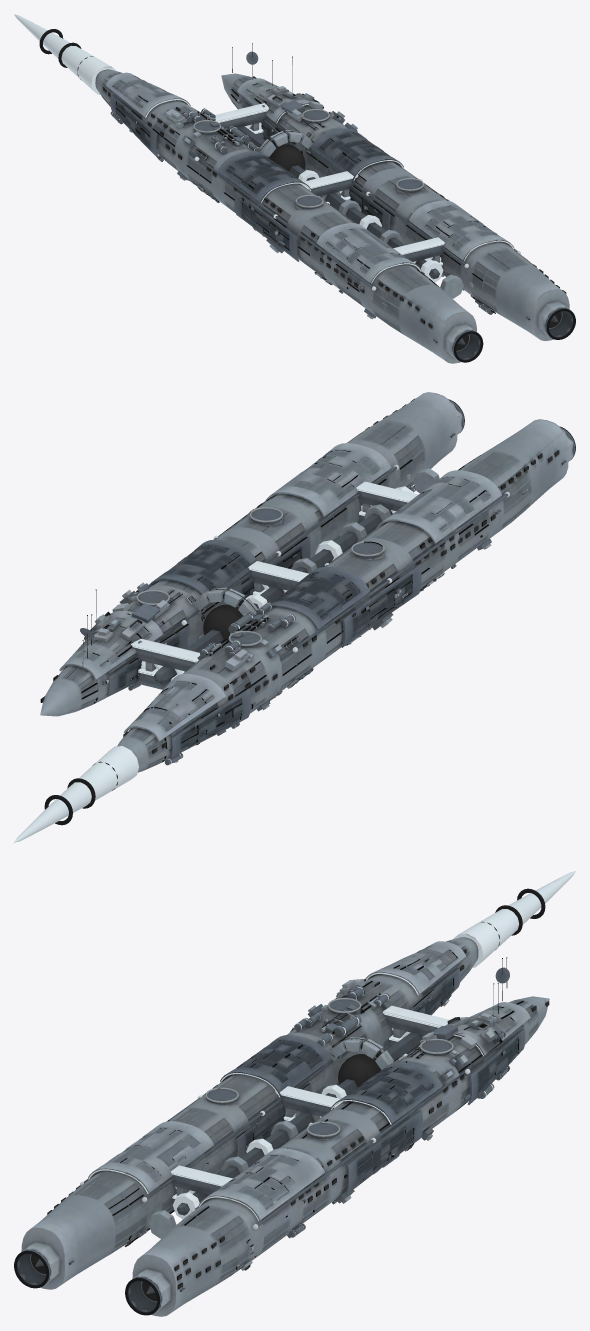
Rendered from joined_spear_hero.glb.
The picture shows the model from 3 angles, top to bottom: view 1: azimuth 30°, elevation 25°; view 2: azimuth 150°, elevation 25°; view 3: azimuth 330°, elevation 25°; orthographic projection. The views are drawn at different scales.
Visible parts, largest first — view 1: HullBaked; view 2: HullBaked; view 3: HullBaked.
Boxes of the visible parts, x1,y1,x2,y2 form: HullBaked: (14,14,575,363); HullBaked: (14,392,575,842); HullBaked: (14,871,575,1316).
Size of the model in its own units: 31.34 by 17.4 by 162.
Materials: 1 (1 with a texture image).
